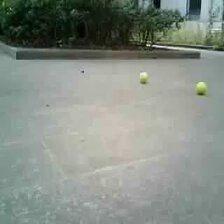tennis: (196, 81, 206, 93), (139, 71, 149, 82)
